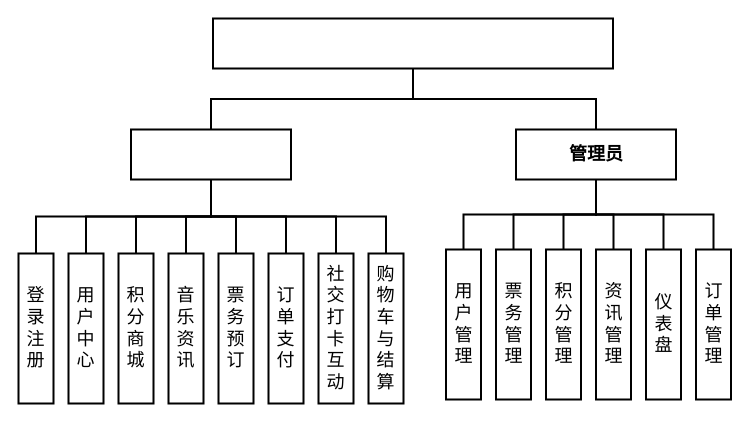
This 749x432 diagram has some shape labels left out. Each missing label, with the centre of its shape:
基于Spring Boot+Vue的沈阳音乐节管理系统: point (413, 43)
用户: point (211, 154)
